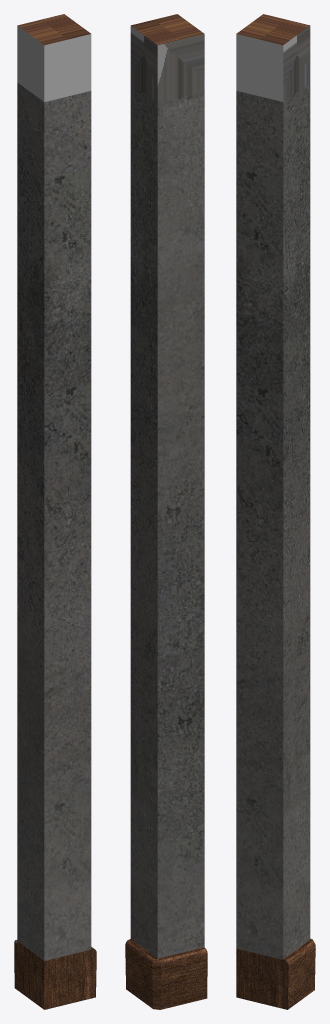
Rendered from fbx_Modular_Wall_Corner_Ze.fbx.
3 renders of one model, left to right at view 1: azimuth 30°, elevation 25°; view 2: azimuth 210°, elevation 25°; view 3: azimuth 330°, elevation 25°, orthographic.
Parts seen in each view (by area): view 1: polySurfaceShape44; view 2: polySurfaceShape44; view 3: polySurfaceShape44.
Boxes of the visible parts, left/top/right/bottom form: polySurfaceShape44: left=14, top=14, right=96, bottom=1009; polySurfaceShape44: left=125, top=14, right=207, bottom=1009; polySurfaceShape44: left=236, top=14, right=315, bottom=1009.
Bounding box in the file's own units: 0.1671 × 2.94 × 0.1671.
Materials: 1 (1 with a texture image).
